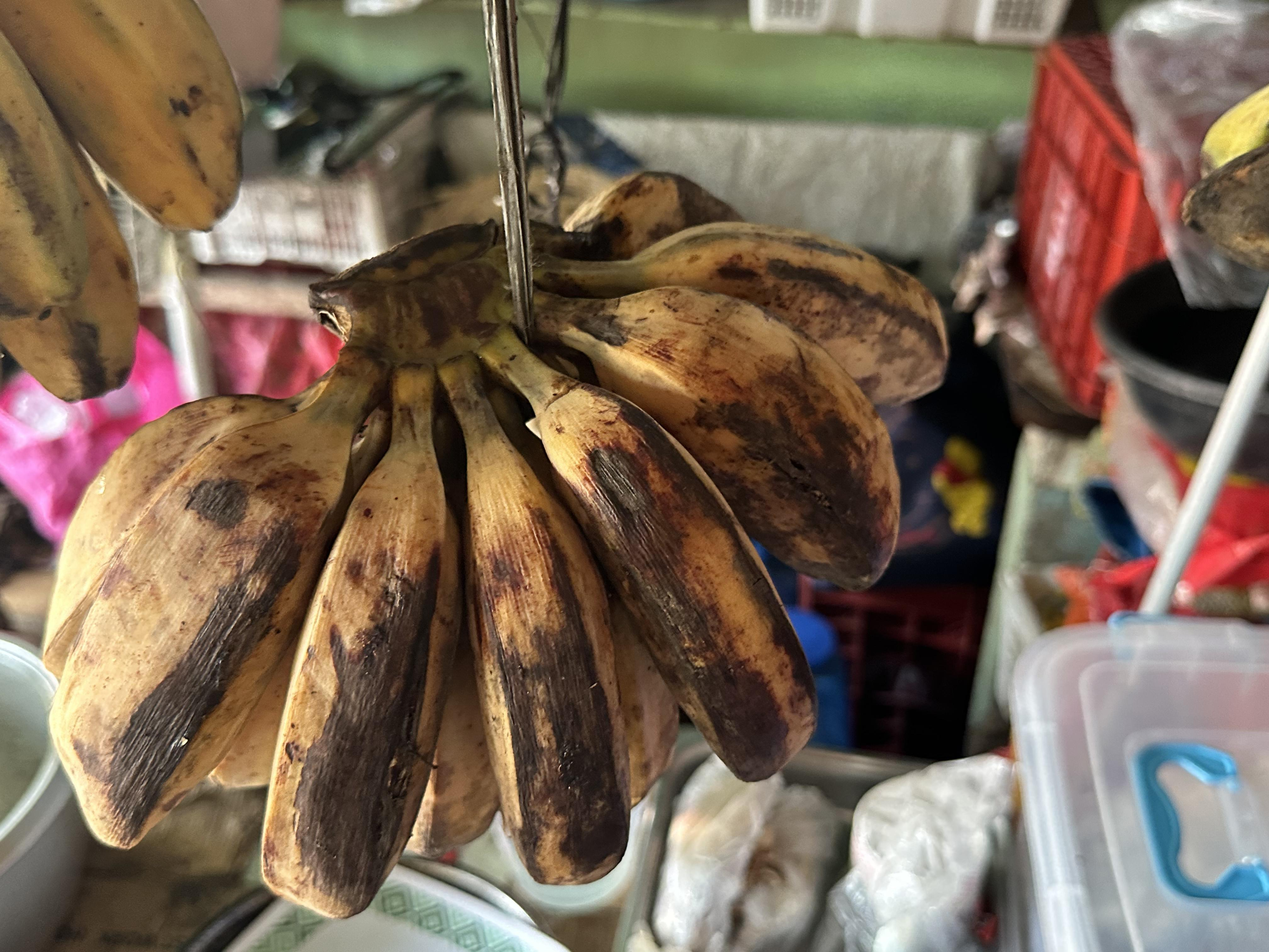ripe: (44, 171, 948, 920), (0, 0, 243, 400)
